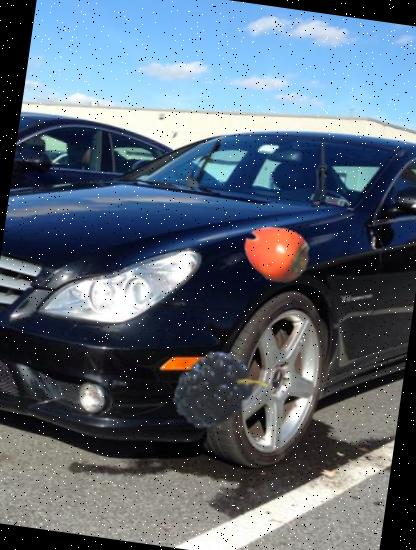Kaki: (237, 215, 316, 294)
Mulberry: (144, 324, 264, 444)
